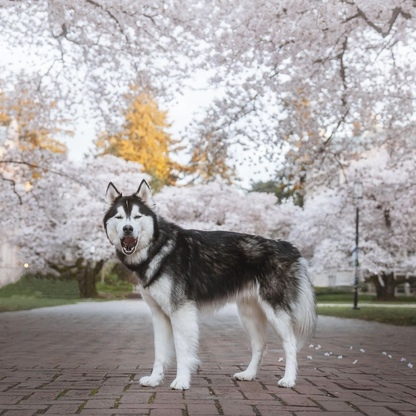husky: (98, 176, 321, 394)
